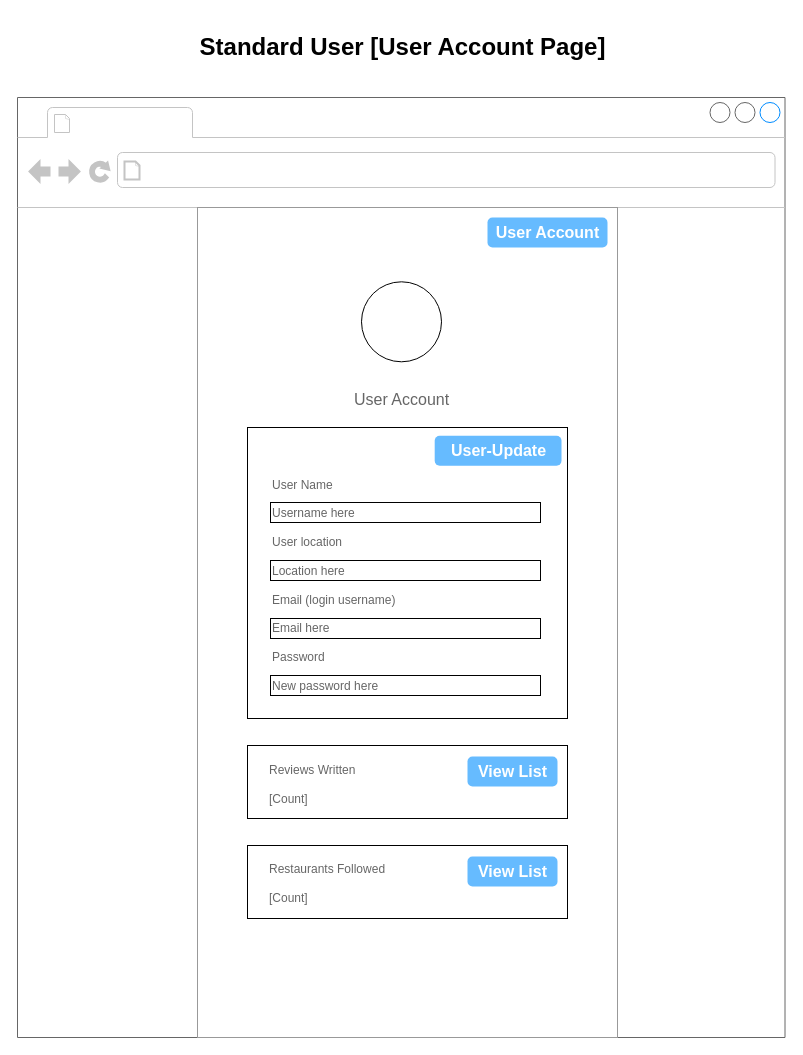
The diagram is 803 pixels wide and 1055 high, and some of its shapes have lost their labels. The box of each missing label's shape, as (x1, y1, x2, y2) in pixels:
DineScout: (76, 108, 188, 136)
https://www.dinescout.com/user_account: (146, 156, 398, 184)
Logo: (360, 281, 442, 362)
